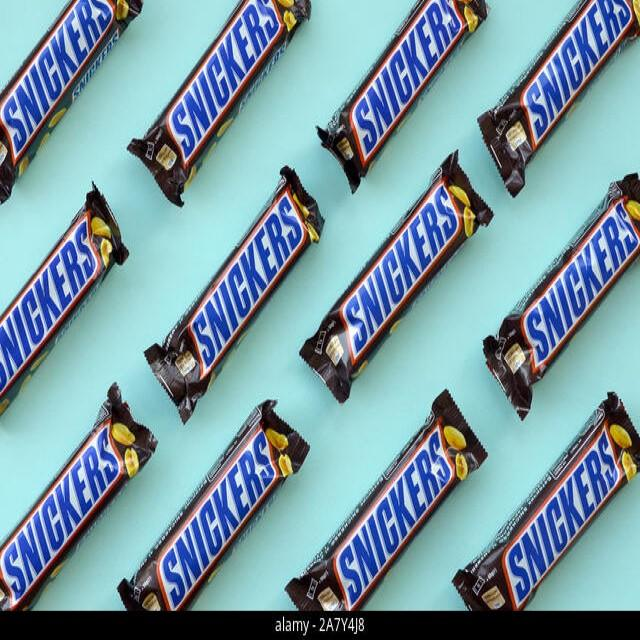snickers_chocolate: (343, 146, 500, 366), (0, 415, 120, 618), (332, 443, 466, 612), (0, 216, 128, 383), (502, 420, 616, 600), (530, 165, 628, 372), (180, 195, 282, 393), (0, 2, 135, 150), (162, 12, 286, 160), (347, 20, 460, 172), (164, 445, 264, 598), (506, 10, 616, 147)
